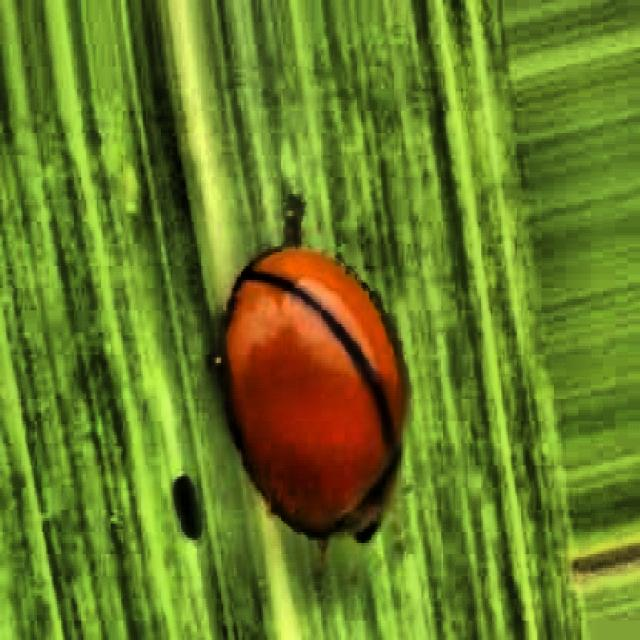Ladybug: (133, 150, 467, 621)
